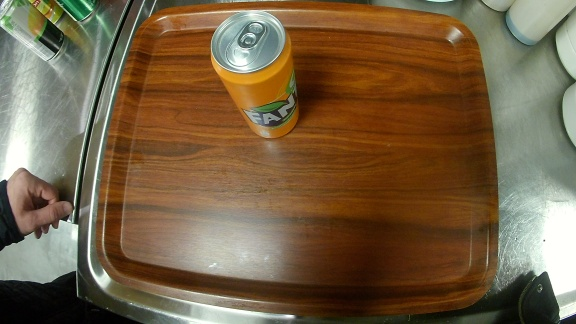kutufanta: (208, 7, 308, 146)
